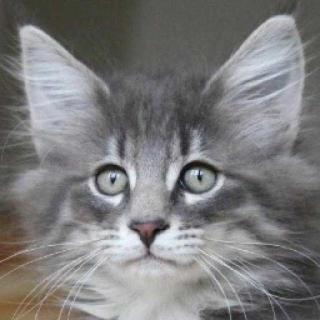cat: (15, 21, 312, 302)
nose: (122, 201, 176, 259)
